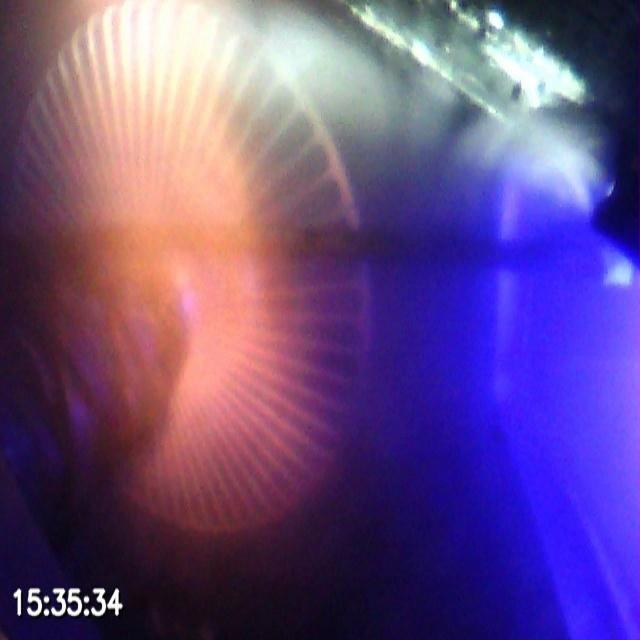white-dots: (600, 242, 640, 289)
